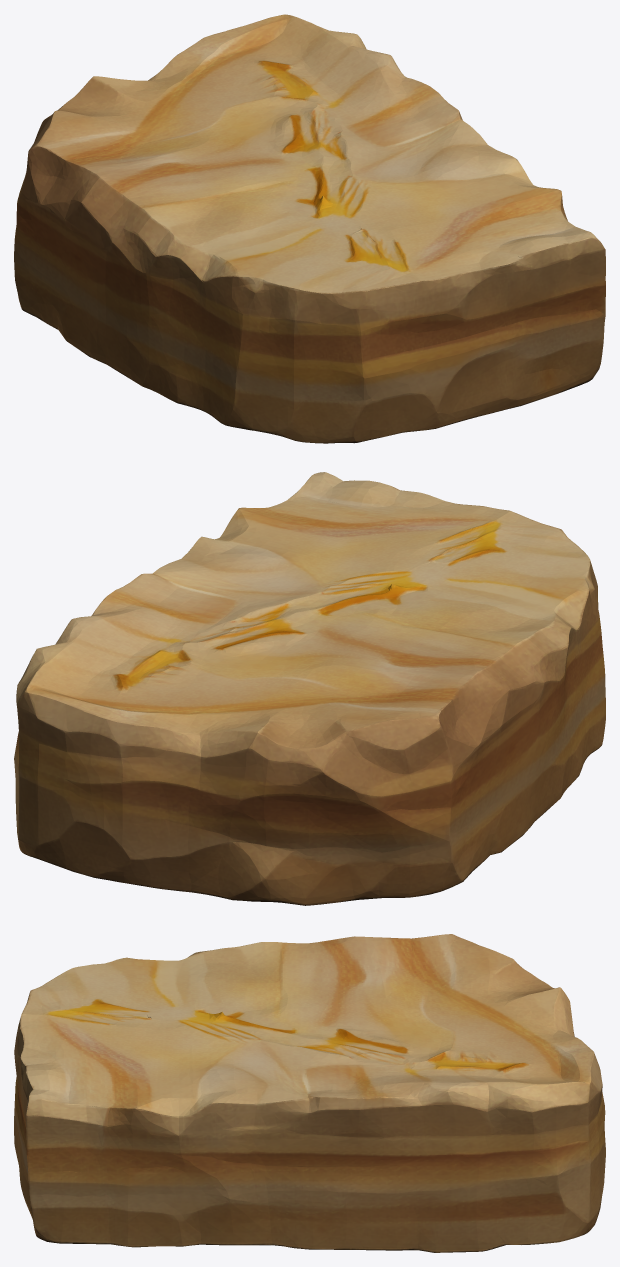
The picture shows the model from 3 angles, top to bottom: view 1: azimuth 30°, elevation 25°; view 2: azimuth 150°, elevation 25°; view 3: azimuth 270°, elevation 25°; orthographic projection. The views are drawn at different scales.
Visible parts, largest first — view 1: world; view 2: world; view 3: world.
Part boxes in pixels (<box>): world: <box>14,14,605,443</box>; world: <box>14,472,605,905</box>; world: <box>14,934,605,1252</box>.
Bounding box in the file's own units: 0.2514 × 0.108 × 0.36.
Materials: 1 (1 with a texture image).
